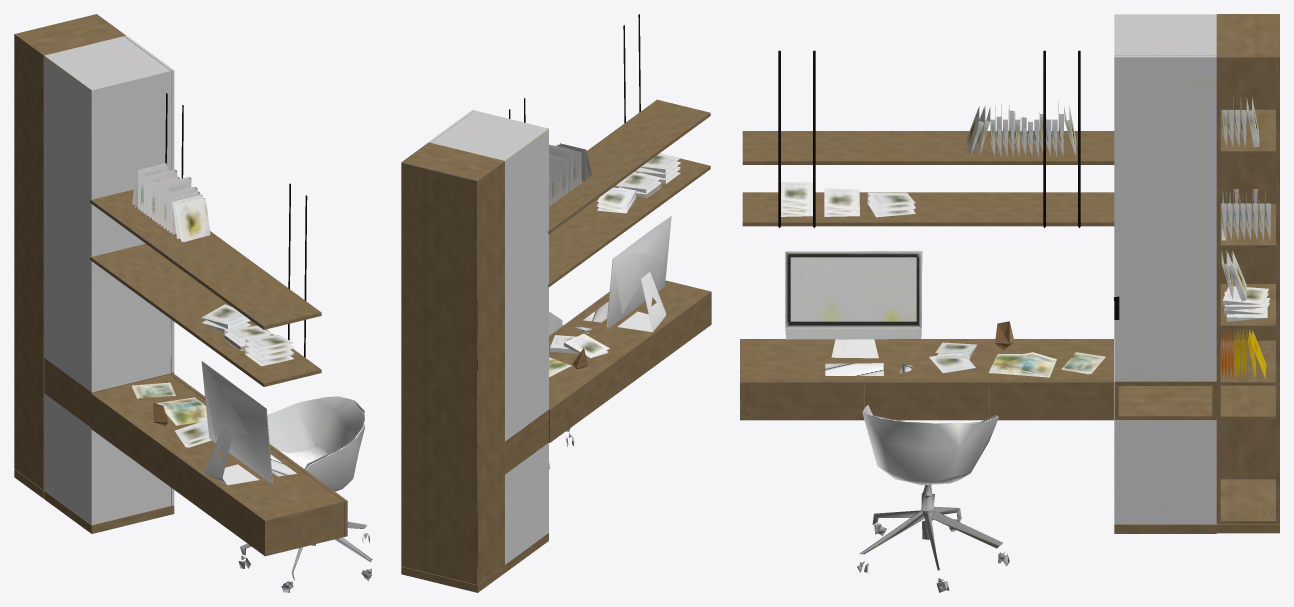
File: Desk0003.obj
3 views of the same model, side by side, from view 1: azimuth 30°, elevation 25°; view 2: azimuth 150°, elevation 25°; view 3: azimuth 270°, elevation 25° (orthographic). The views are drawn at different scales.
Size of the model in its own units: 1.19 by 2.5 by 2.57.
1 material, 1 textured.
